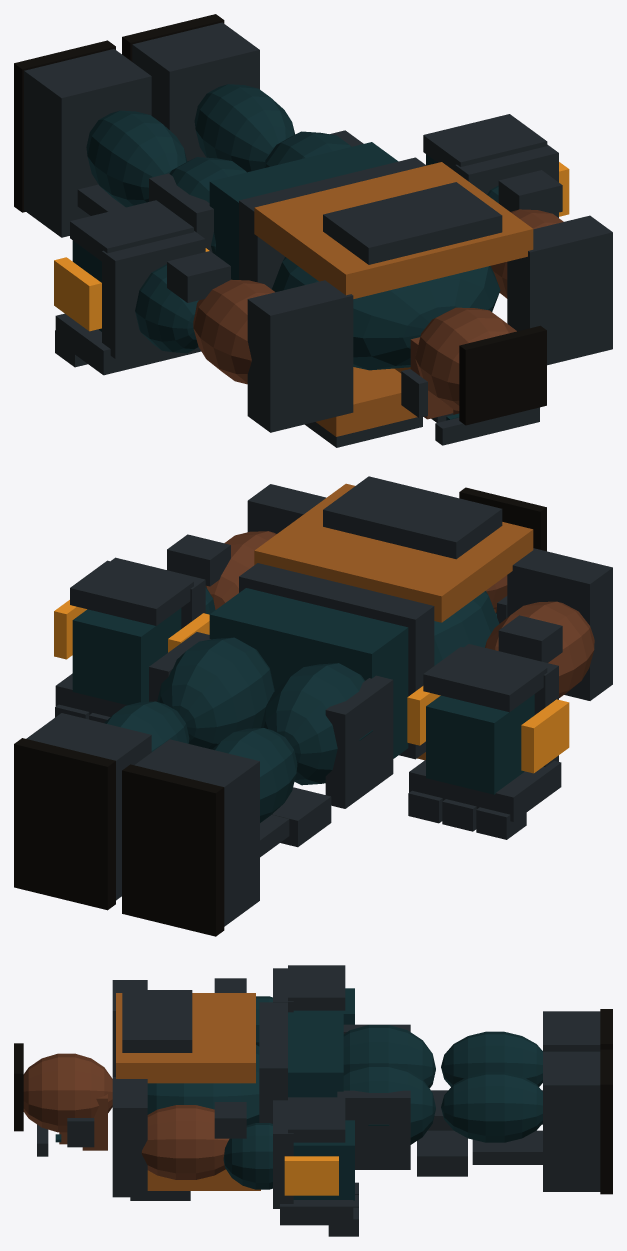
File: brack_prototype.obj
3 renders of one model, top to bottom at view 1: azimuth 30°, elevation 25°; view 2: azimuth 150°, elevation 25°; view 3: azimuth 270°, elevation 25°, orthographic. The views are drawn at different scales.
Parts seen in each view (by area): view 1: 04_JacketBack, 08_Shoulder_R, 16_Boot_R, 08_Shoulder_L, 06_BackPlate, 16_Boot_L, 03_Undershirt, 01_Hair, 12_Calf_R, 12_TrousersHip, 12_Calf_L, 10_Wrist_R (+24 smaller); view 2: 16_Sole_R, 16_Sole_L, 04_JacketBack, 12_TrousersHip, 06_BackPlate, 12_Thigh_L, 16_Boot_R, 10_Glove_R, 08_Shoulder_R, 10_Glove_L, 07_Belt, 12_Thigh_R (+27 smaller); view 3: 04_JacketBack, 16_Boot_L, 12_Calf_L, 01_Head, 08_UpperArm_L, 12_TrousersHip, 13_ThighArmor_L, 06_BackPlate, 08_Shoulder_L, 12_Calf_R, 12_Thigh_R, 07_Belt (+26 smaller).
Boxes of the visible parts, x1,y1,x2,y2 form: 04_JacketBack: (254,162,533,298); 08_Shoulder_R: (247,280,353,432); 16_Boot_R: (24,49,151,237); 08_Shoulder_L: (507,215,612,365); 06_BackPlate: (323,182,502,264); 16_Boot_L: (132,22,259,161); 03_Undershirt: (272,257,500,370); 01_Hair: (459,325,546,425); 12_Calf_R: (86,110,187,207); 12_TrousersHip: (209,142,398,279); 12_Calf_L: (194,84,295,172); 10_Wrist_R: (102,231,205,358); 16_Sole_R: (122,764,224,936); 16_Sole_L: (14,738,115,910); 04_JacketBack: (254,483,533,622); 12_TrousersHip: (209,588,408,758); 06_BackPlate: (323,476,502,559); 12_Thigh_L: (157,637,274,749); 16_Boot_R: (134,739,259,926); 10_Glove_R: (426,694,534,794); 08_Shoulder_R: (507,548,612,700); 10_Glove_L: (72,608,181,705); 07_Belt: (239,563,434,759); 12_Thigh_R: (261,663,372,785); 04_JacketBack: (116,993,255,1083); 16_Boot_L: (543,1051,600,1191); 12_Calf_L: (441,1072,542,1142); 01_Head: (23,1053,112,1132); 08_UpperArm_L: (141,1105,229,1179); 12_TrousersHip: (288,1012,343,1097); 13_ThighArmor_L: (337,1090,410,1169); 06_BackPlate: (122,990,192,1052); 08_Shoulder_L: (112,1077,147,1197); 12_Calf_R: (441,1031,542,1086); 12_Thigh_R: (343,1025,435,1088); 07_Belt: (259,1002,287,1123).
Bounding box in the file's own units: 1.33 × 0.555 × 1.88.
